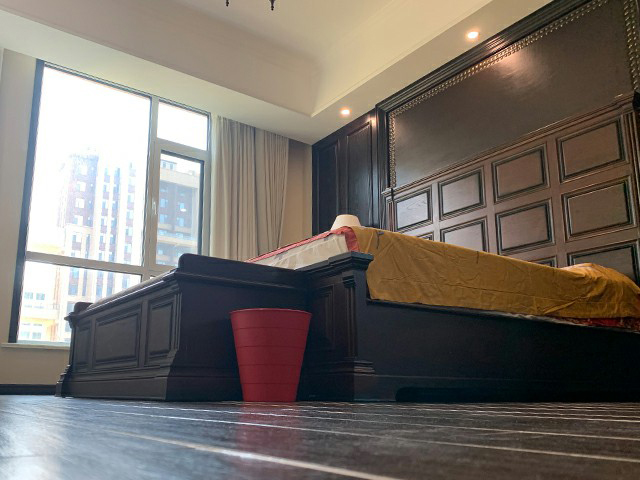bed: (243, 224, 640, 404)
stool: (55, 253, 320, 403)
trashcan: (228, 306, 312, 405)
